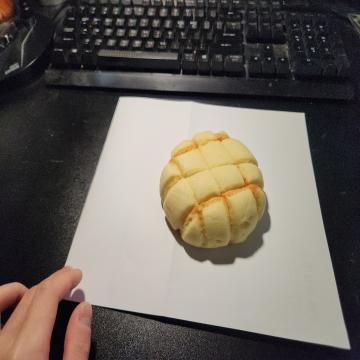melon_bread: (158, 130, 266, 249)
